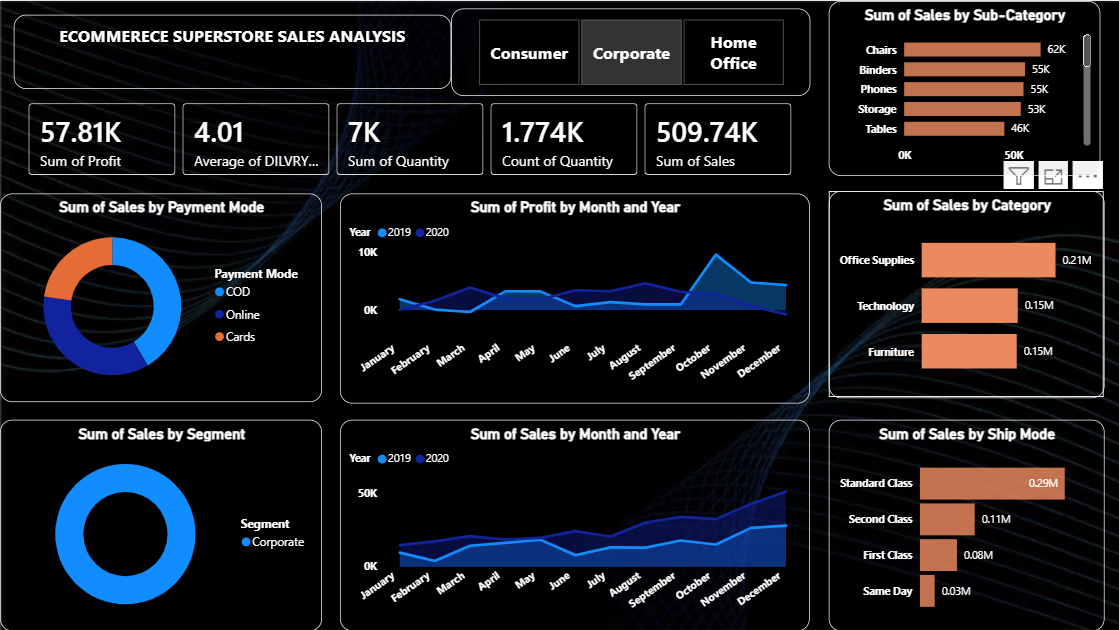

This screenshot's page, from the dashboard's own definition file:
{"tool":"powerbi","page":{"name":"Page 1","canvas":[1280,720],"ordinal":0},"visuals":[{"type":"clusteredBarChart","fields":{"Category":["SuperStore_Sales_Dataset.Category"],"Y":["Sum(SuperStore_Sales_Dataset.Sales)"]},"box":[946.7,216.7,315,236.7],"z":0},{"type":"clusteredBarChart","fields":{"Category":["SuperStore_Sales_Dataset.Sub-Category"],"Y":["Sum(SuperStore_Sales_Dataset.Sales)"]},"box":[946.7,0,310,200],"z":1000},{"type":"clusteredBarChart","fields":{"Y":["Sum(SuperStore_Sales_Dataset.Sales)"],"Category":["SuperStore_Sales_Dataset.Ship Mode"]},"box":[946.7,478.3,315,241.7],"z":2000},{"type":"areaChart","fields":{"Category":["SuperStore_Sales_Dataset.Order Date.Variation.Date Hierarchy.Month","SuperStore_Sales_Dataset.Order Date.Variation.Date Hierarchy.Day"],"Y":["Sum(SuperStore_Sales_Dataset.Sales)"],"Series":["SuperStore_Sales_Dataset.Order Date.Variation.Date Hierarchy.Year"]},"box":[388.3,478.3,536.7,241.7],"z":3000},{"type":"areaChart","fields":{"Category":["SuperStore_Sales_Dataset.Order Date.Variation.Date Hierarchy.Month","SuperStore_Sales_Dataset.Order Date.Variation.Date Hierarchy.Day"],"Series":["SuperStore_Sales_Dataset.Order Date.Variation.Date Hierarchy.Year"],"Y":["Sum(SuperStore_Sales_Dataset.Profit)"]},"box":[388.3,220,536.7,240],"z":4000},{"type":"donutChart","fields":{"Category":["SuperStore_Sales_Dataset.Segment"],"Y":["Sum(SuperStore_Sales_Dataset.Sales)"]},"box":[0,478.3,368.3,241.7],"z":5000},{"type":"donutChart","fields":{"Category":["SuperStore_Sales_Dataset.Payment Mode"],"Y":["Sum(SuperStore_Sales_Dataset.Sales)"]},"box":[0,220,368.3,238.3],"z":6000},{"type":"slicer","fields":{"Values":["SuperStore_Sales_Dataset.Segment"]},"box":[515,8.3,410,100],"z":7000},{"type":"cardVisual","fields":{"Data":["Sum(SuperStore_Sales_Dataset.Profit)","Avg(SuperStore_Sales_Dataset.AVRG_DILVRY TIME)","Sum(SuperStore_Sales_Dataset.Quantity)","CountNonNull(SuperStore_Sales_Dataset.Quantity)","Sum(SuperStore_Sales_Dataset.Sales)"]},"box":[15,100,910,116.7],"z":7001},{"type":"textbox","box":[15,15,500,85],"z":7002}]}

Visuals, with their boxes in screenshot pixels (x1, y1, x2, y2), scaled from the page's 1280x720 canvas onto the 1119x630 screenshot:
clusteredBarChart - SuperStore_Sales_Dataset.Category x Sum(SuperStore_Sales_Dataset.Sales): region(828, 190, 1103, 397)
clusteredBarChart - SuperStore_Sales_Dataset.Sub-Category x Sum(SuperStore_Sales_Dataset.Sales): region(828, 0, 1099, 175)
clusteredBarChart - Sum(SuperStore_Sales_Dataset.Sales) x SuperStore_Sales_Dataset.Ship Mode: region(828, 419, 1103, 629)
areaChart - SuperStore_Sales_Dataset.Order Date.Variation.Date Hierarchy.Month x SuperStore_Sales_Dataset.Order Date.Variation.Date Hierarchy.Day: region(339, 419, 809, 629)
areaChart - SuperStore_Sales_Dataset.Order Date.Variation.Date Hierarchy.Month x SuperStore_Sales_Dataset.Order Date.Variation.Date Hierarchy.Day: region(339, 192, 809, 402)
donutChart - SuperStore_Sales_Dataset.Segment x Sum(SuperStore_Sales_Dataset.Sales): region(0, 419, 322, 629)
donutChart - SuperStore_Sales_Dataset.Payment Mode x Sum(SuperStore_Sales_Dataset.Sales): region(0, 192, 322, 401)
slicer - SuperStore_Sales_Dataset.Segment: region(450, 7, 809, 95)
cardVisual - Sum(SuperStore_Sales_Dataset.Profit) x Avg(SuperStore_Sales_Dataset.AVRG_DILVRY TIME): region(13, 88, 809, 190)
textbox: region(13, 13, 450, 88)
